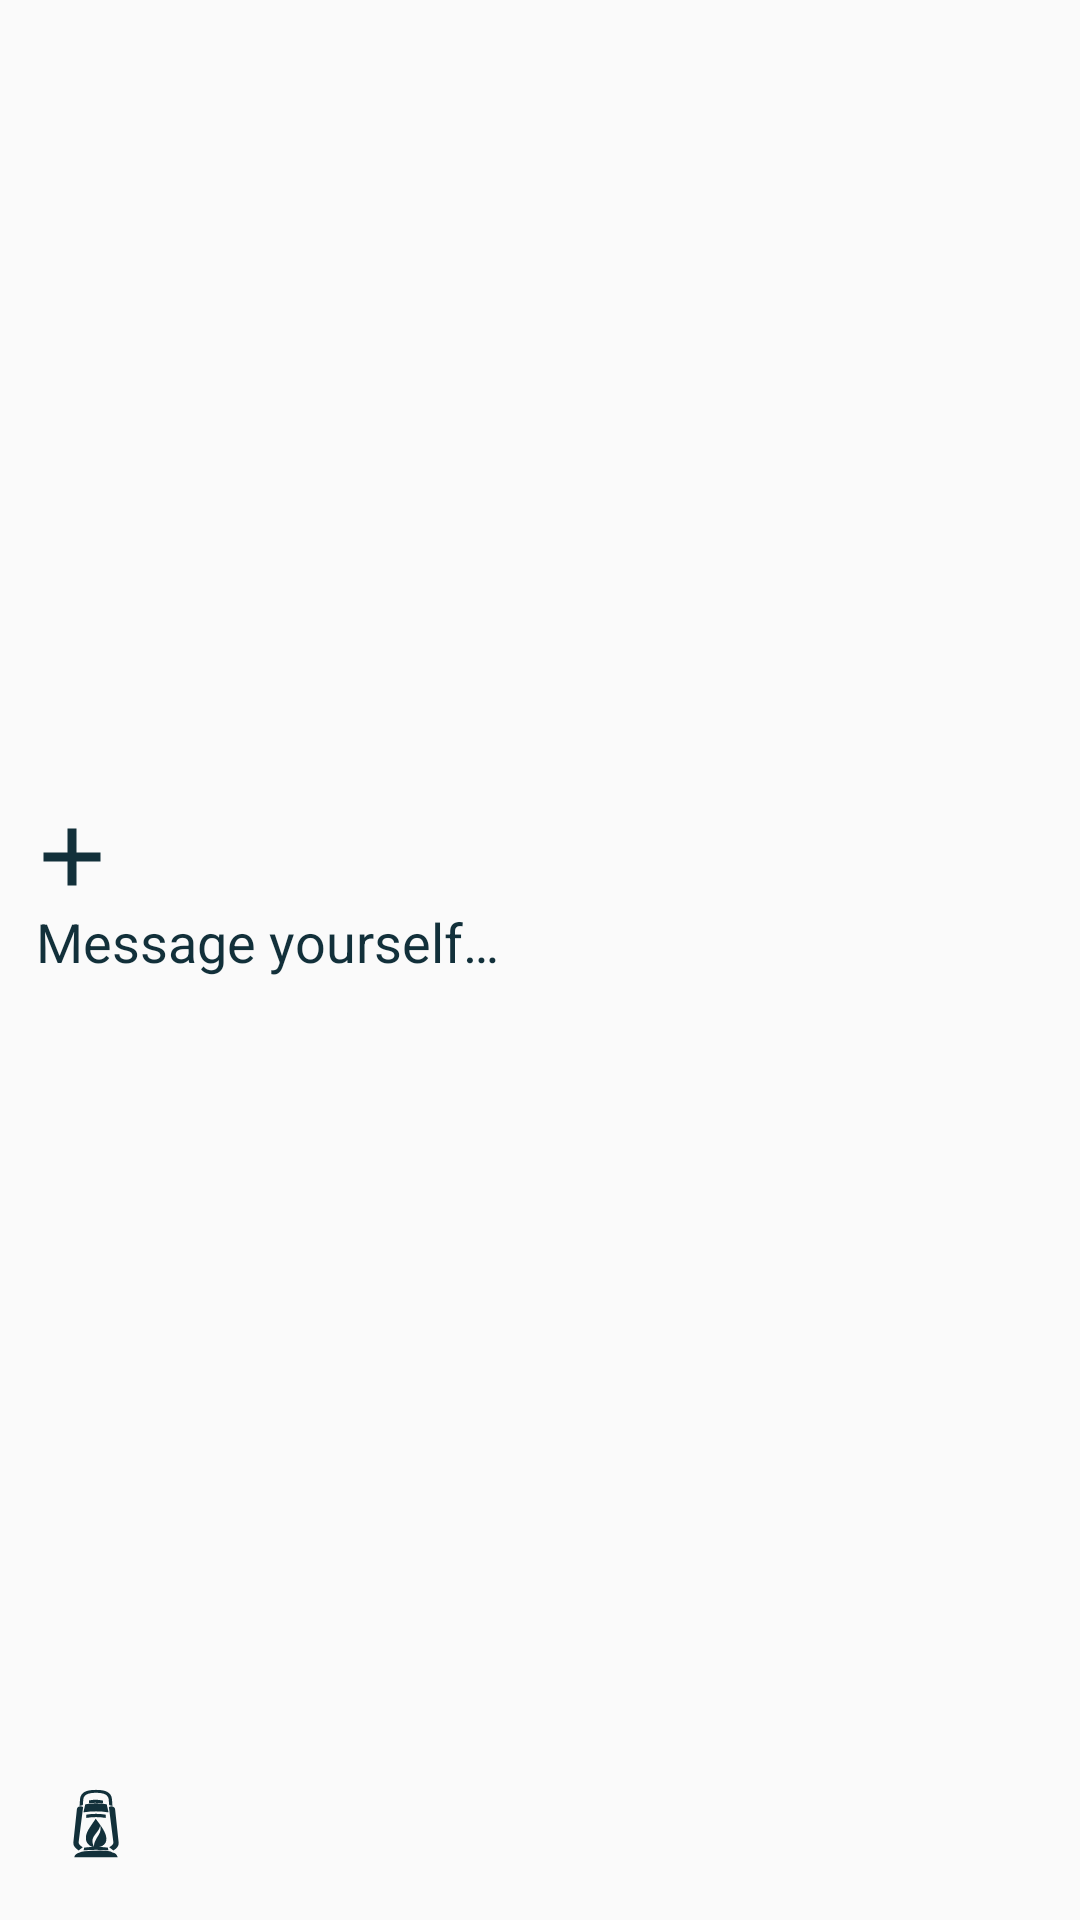

Icon bounding boxes for this 1080px×1920px phone screenshot, format box(x1, y1, x2, y2):
paper plus: box(43, 828, 101, 886)
